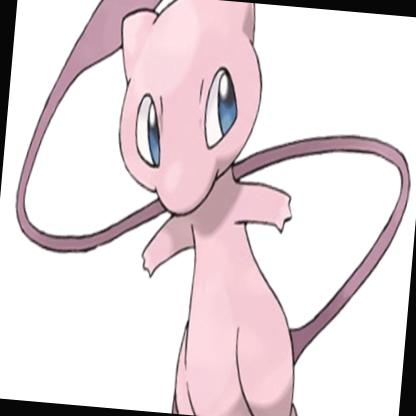Mew: (45, 54, 342, 415)
